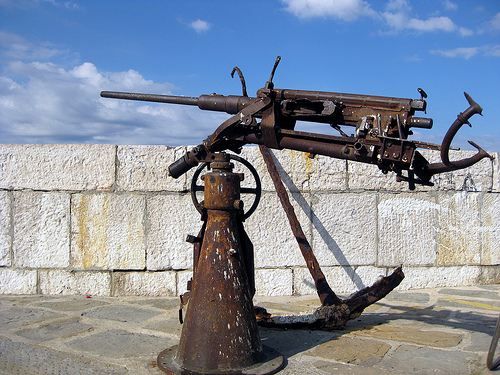rifle: (64, 50, 490, 351)
